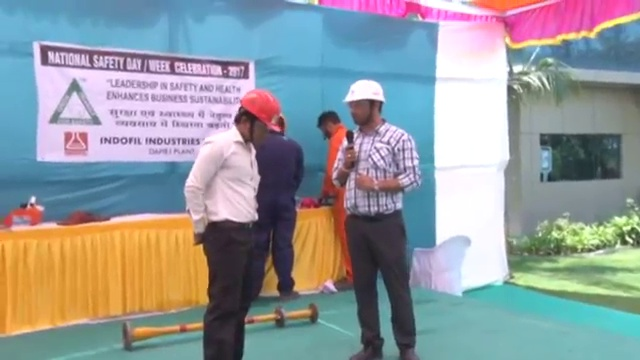helmet: (240, 87, 284, 133), (341, 79, 387, 106)
helmet_off: (316, 109, 342, 140)
helmet_on: (232, 86, 286, 148), (340, 78, 388, 134)
person: (182, 88, 286, 360), (333, 79, 424, 360), (254, 115, 306, 302), (315, 109, 356, 292)
